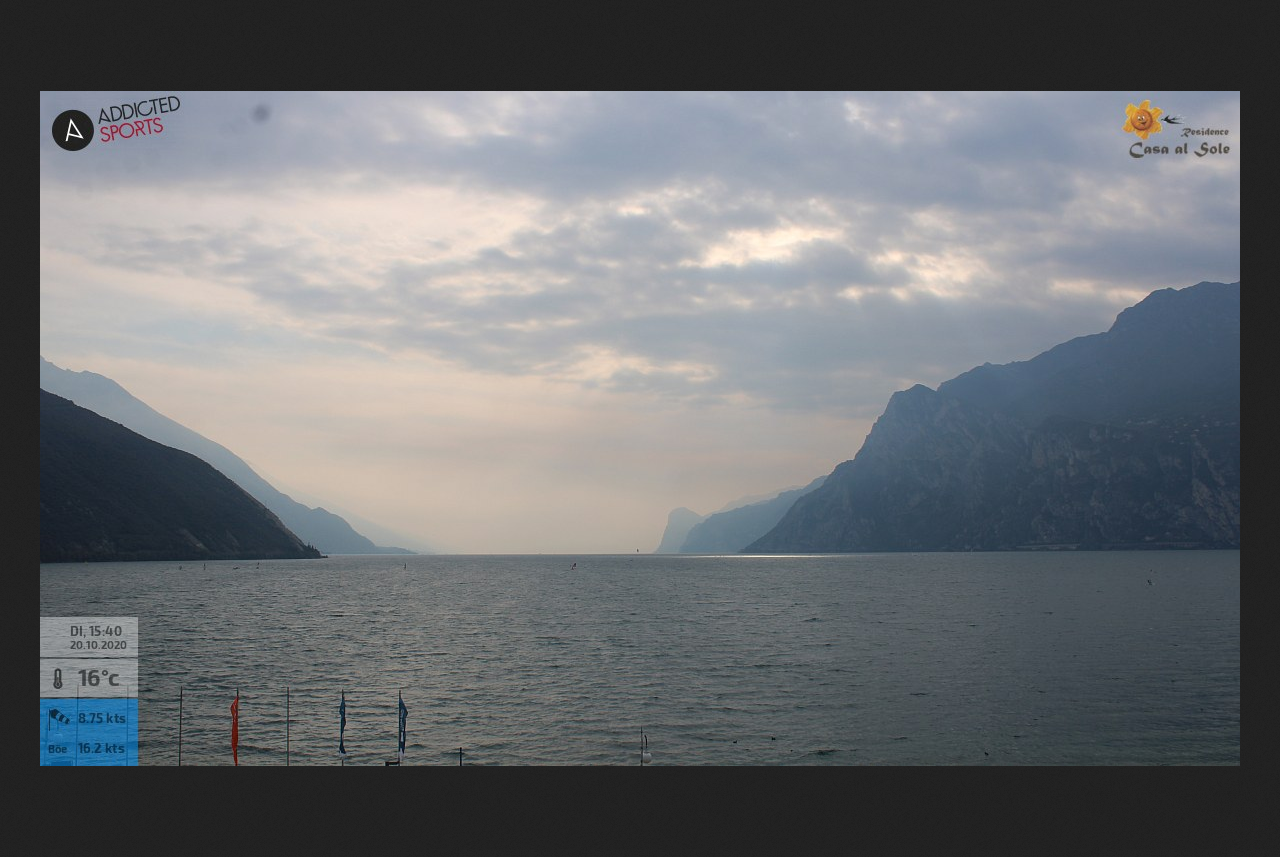no: (227, 690, 245, 765), (336, 695, 354, 757), (393, 690, 409, 755)
